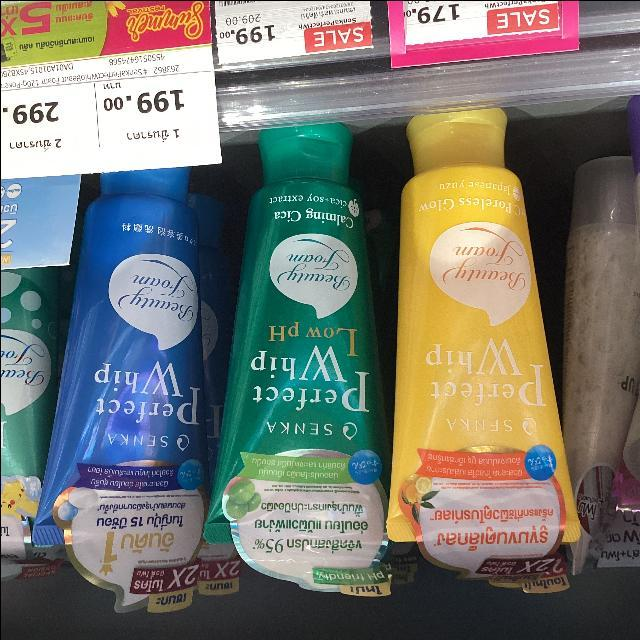Squeeze Tube: (58, 104, 599, 600), (389, 112, 592, 548), (205, 115, 402, 564), (32, 169, 218, 556)
